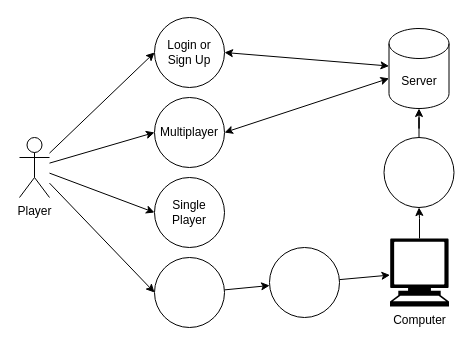
The diagram is 471 pixels wide and 345 high, and some of its shapes have lost their labels. The shapes that lost their labels are listed below. From the top down, each one's centre as x and y in pixels, then its label:
point (418, 172): Request Word List
point (189, 292): Play Word
point (304, 282): Check Word
